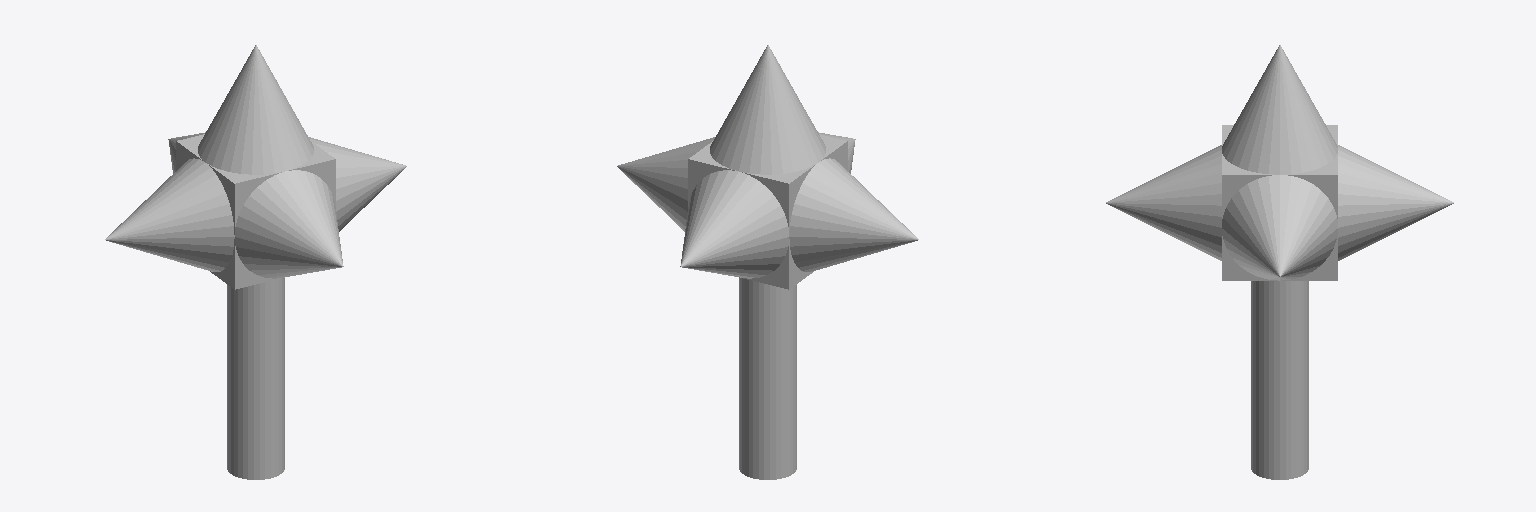
Rendered from Hamer.obj.
3 views of the same model, side by side, from view 1: azimuth 30°, elevation 25°; view 2: azimuth 150°, elevation 25°; view 3: azimuth 270°, elevation 25° (orthographic).
Parts seen in each view (by area): view 1: Cylinder, Cone.005, Cone.001, Cone.004, Cube, Cone.003; view 2: Cylinder, Cone.002, Cone.001, Cone.004, Cube, Cone.003; view 3: Cylinder, Cone.003, Cone.004, Cone.002, Cone.005, Cube.
Part boxes in pixels (x1,y1,x2,y2): Cylinder: (227,278,284,479); Cone.005: (235,170,343,278); Cone.001: (105,158,234,271); Cone.004: (198,45,313,174); Cube: (176,134,335,289); Cone.003: (309,137,406,231); Cylinder: (739,278,796,479); Cone.002: (680,170,788,278); Cone.001: (789,158,918,271); Cone.004: (710,45,825,174); Cube: (688,134,847,289); Cone.003: (617,137,714,231); Cylinder: (1251,281,1308,479); Cone.003: (1222,175,1337,280); Cone.004: (1222,45,1337,174); Cone.002: (1338,145,1453,260); Cone.005: (1106,145,1221,260); Cube: (1222,125,1337,280).
Size of the model in its own units: 6 by 8 by 6.